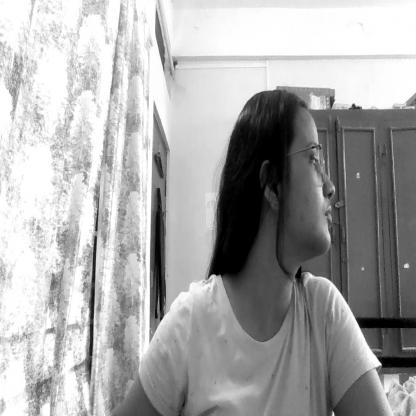Distracted: (257, 89, 345, 260)
